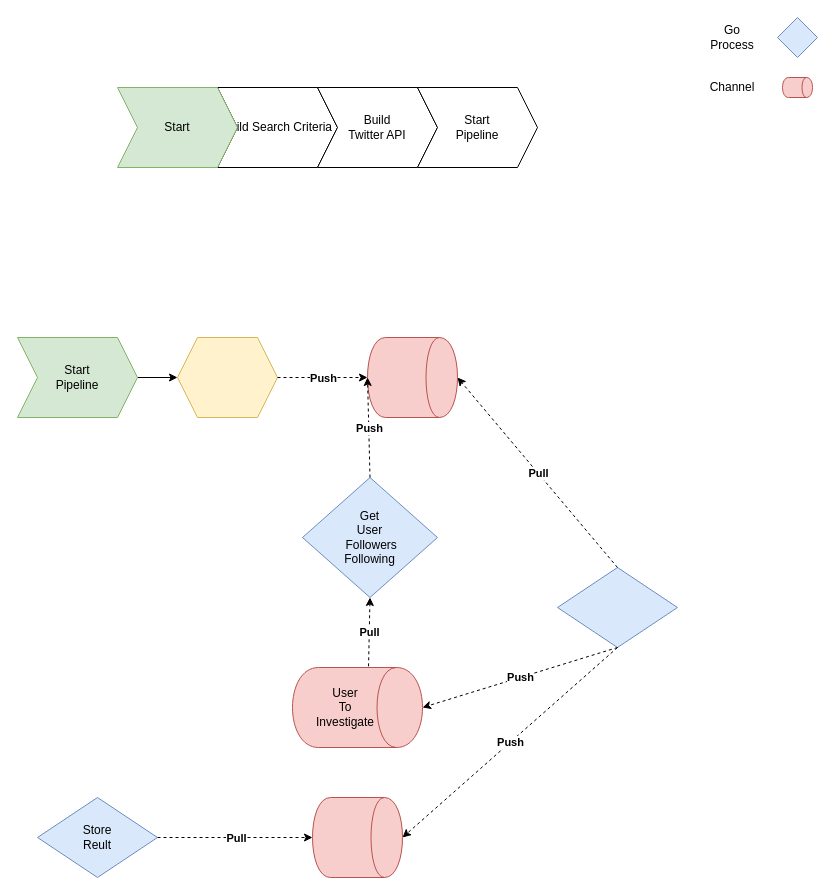
Some shapes in this 835 by 895 pixel diagram are drawn without their labels. The shapes that lost their labels are listed below. From the top down, each one's centre as x and y in pixels, then its label:
the point at 227,377: Get The First User Followers Following
the point at 412,377: User Details
the point at 617,607: Check Validate User
the point at 357,837: Valid User
